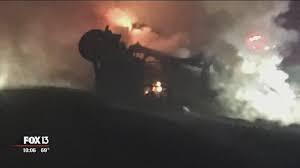fire: (100, 6, 166, 49), (147, 72, 164, 95)
